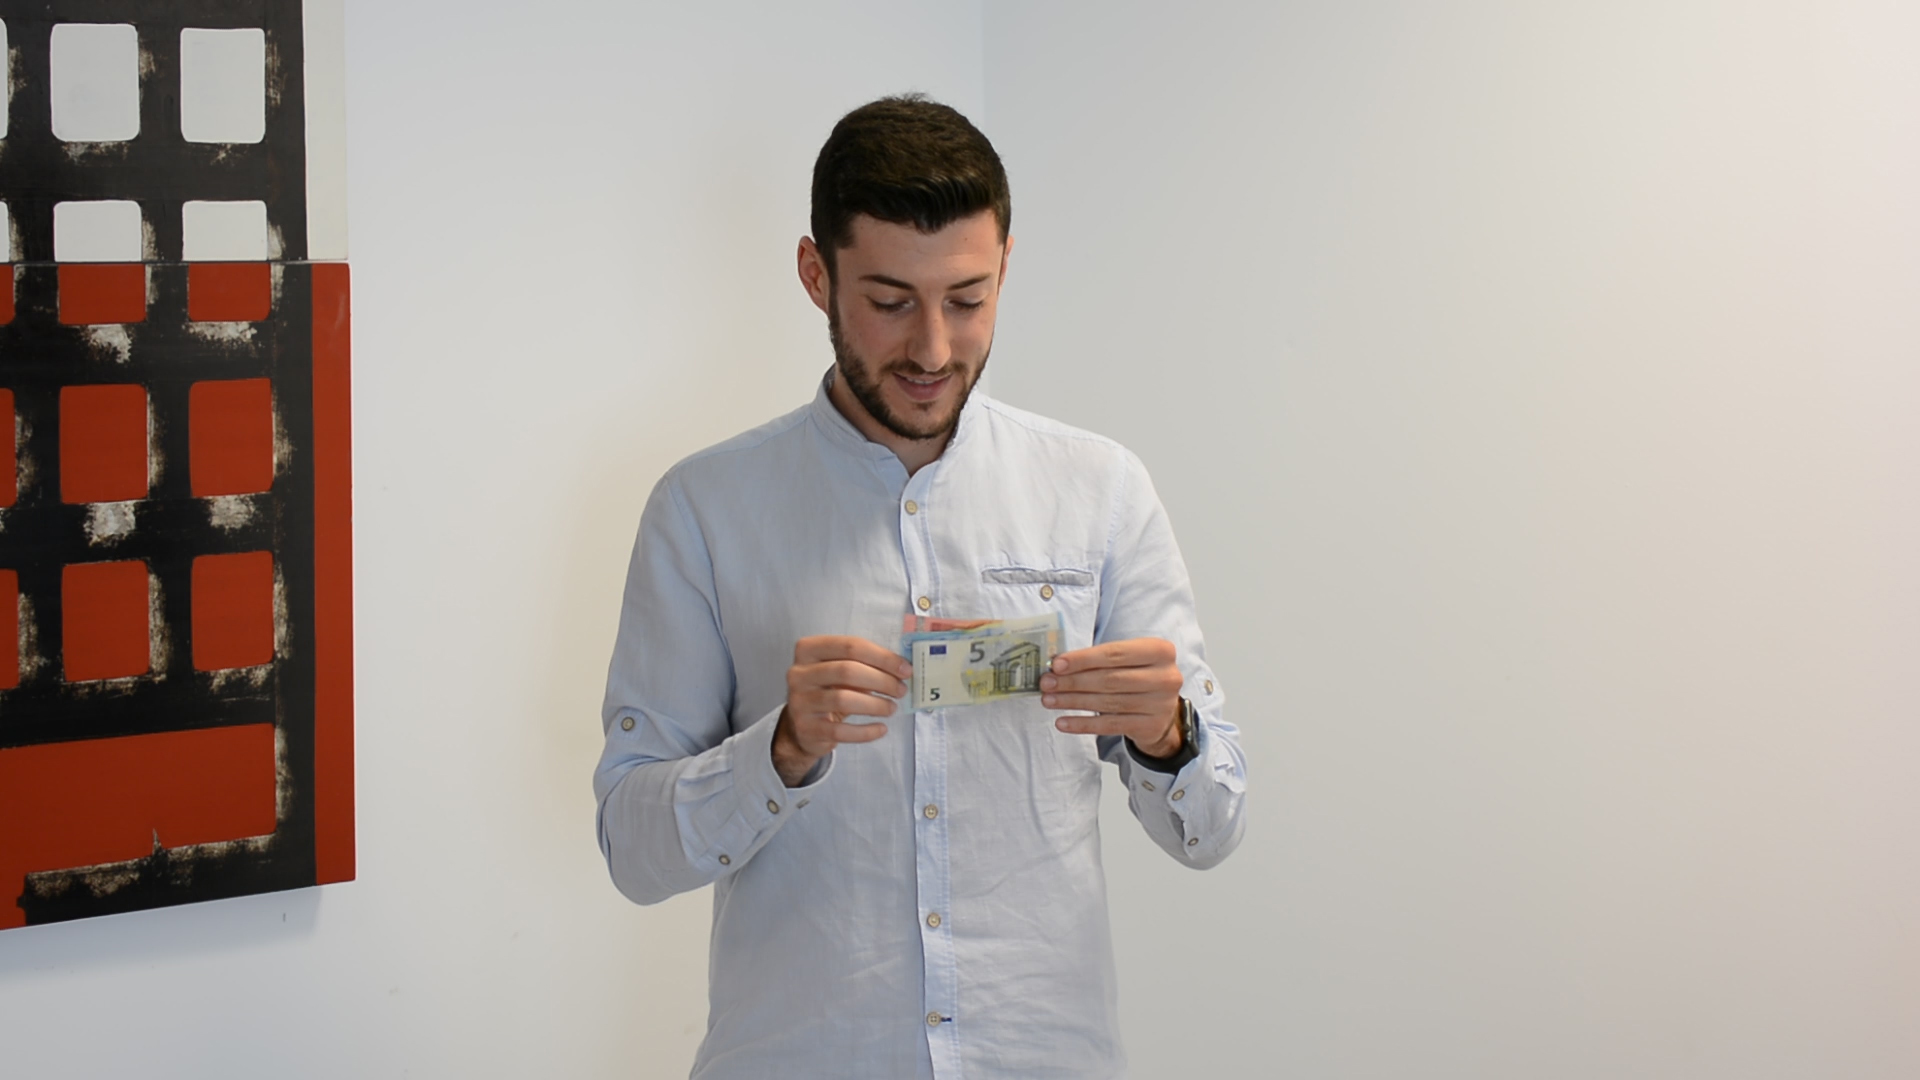billete: (898, 613, 1073, 709)
